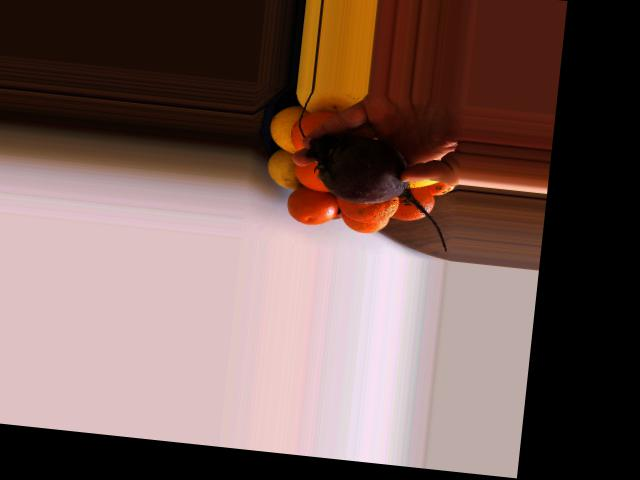beet: (299, 131, 457, 251)
